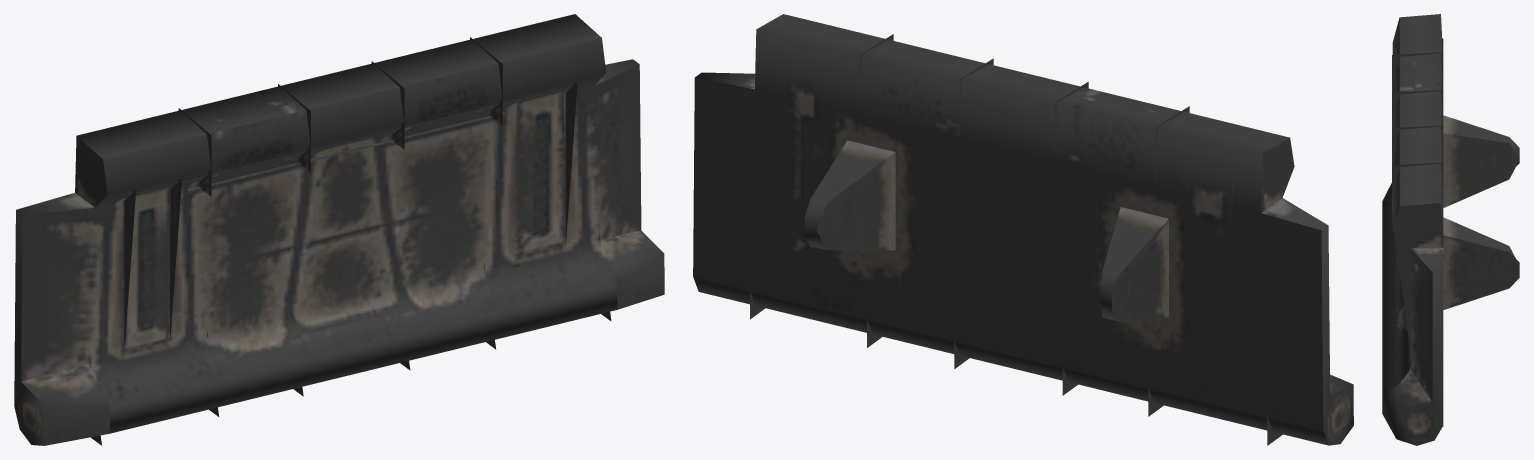
3 views of the same model, side by side, from view 1: azimuth 30°, elevation 25°; view 2: azimuth 150°, elevation 25°; view 3: azimuth 270°, elevation 25° (orthographic). The views are drawn at different scales.
Visible parts, largest first — view 1: set_0_group_0; view 2: set_0_group_0; view 3: set_0_group_0.
Part boxes in pixels (x1,y1,x2,y2): set_0_group_0: (14, 14, 664, 445); set_0_group_0: (693, 14, 1353, 445); set_0_group_0: (1382, 14, 1519, 445).
Size of the model in its own units: 0.3501 by 0.1549 by 0.0863.
Materials: 1 (1 with a texture image).
